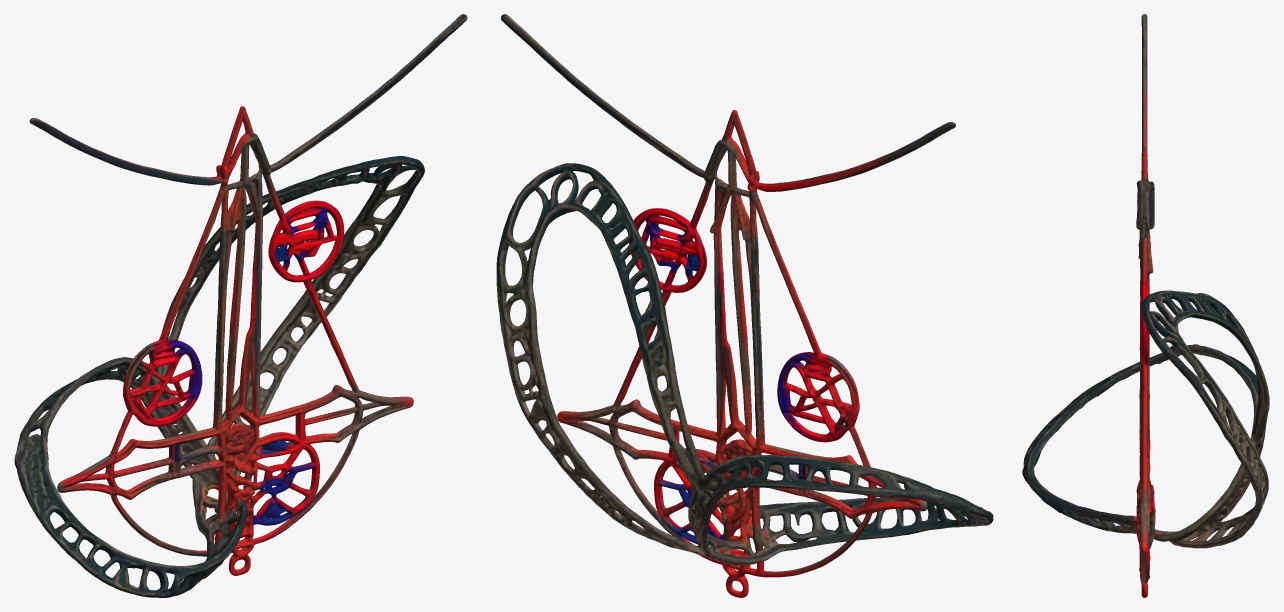
3 views of the same model, side by side, from view 1: azimuth 30°, elevation 25°; view 2: azimuth 150°, elevation 25°; view 3: azimuth 270°, elevation 25° (orthographic). The views are drawn at different scales.
Visible parts, largest first — view 1: world; view 2: world; view 3: world.
Part boxes in pixels (bbox=[...]): world: bbox=[14, 14, 467, 597]; world: bbox=[496, 14, 993, 597]; world: bbox=[1022, 14, 1269, 597].
Bounding box in the file's own units: 0.2 × 0.2173 × 0.1004.
1 material, 1 textured.
